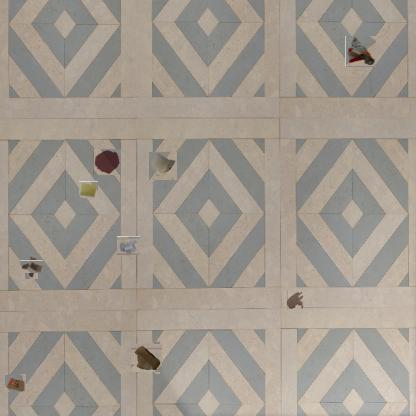dirty: (346, 36, 376, 67), (131, 343, 161, 373), (149, 152, 177, 180), (118, 236, 139, 256), (4, 374, 26, 392), (22, 258, 41, 276), (78, 181, 98, 198)
liquid: (93, 149, 121, 175), (284, 290, 304, 310)
